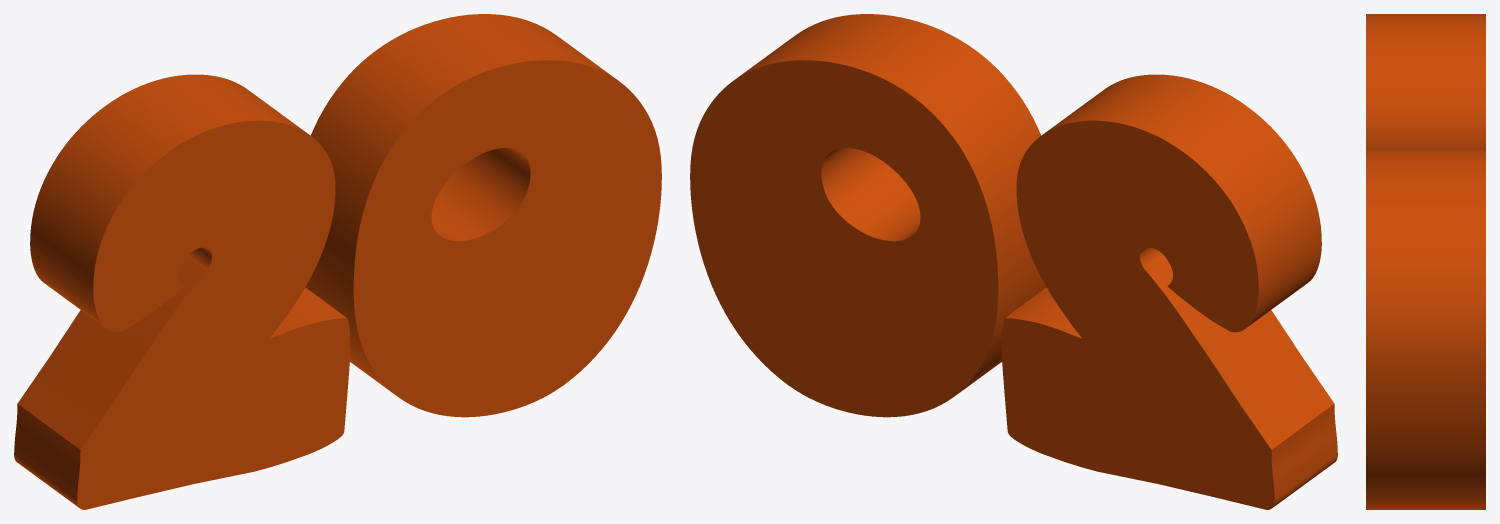
3 renders of one model, left to right at view 1: azimuth 30°, elevation 25°; view 2: azimuth 150°, elevation 25°; view 3: azimuth 270°, elevation 25°, orthographic. The views are drawn at different scales.
Visible parts, largest first — view 1: Shape2; view 2: Shape2; view 3: Shape2.
Boxes of the visible parts, left/top/right/bottom form: Shape2: left=14, top=14, right=661, bottom=509; Shape2: left=690, top=14, right=1337, bottom=509; Shape2: left=1366, top=14, right=1485, bottom=509.
Size of the model in its own units: 26.75 by 15.54 by 5.
